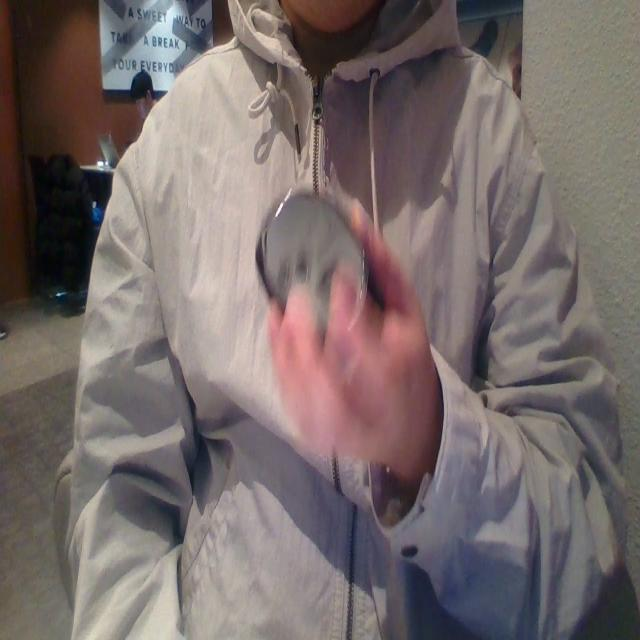grab_mouse: (265, 180, 426, 470)
mouse: (252, 179, 374, 303)
